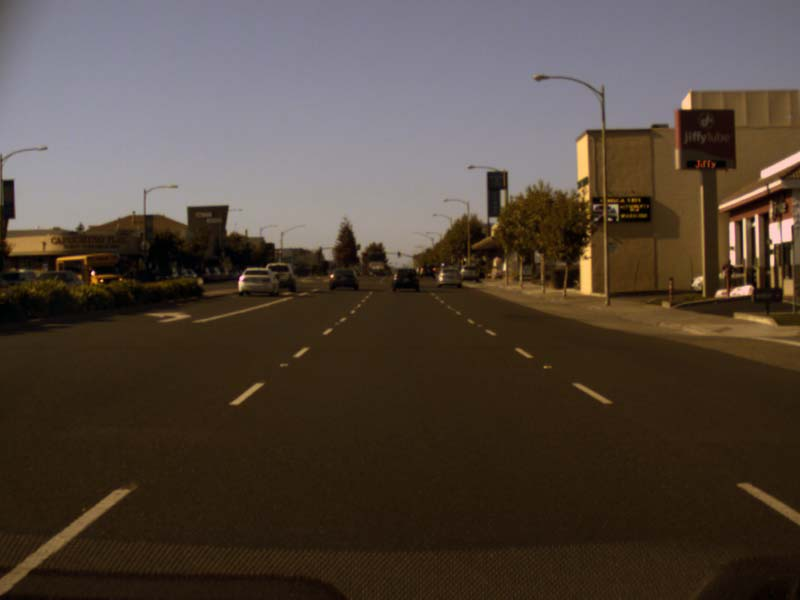Red: (364, 249, 367, 253)
